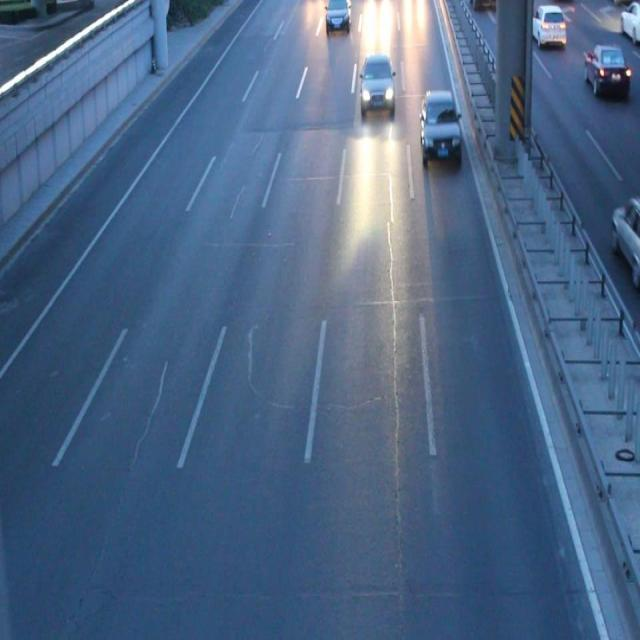car: (610, 195, 640, 276), (423, 91, 459, 158), (584, 45, 628, 96), (360, 58, 393, 109), (525, 1, 564, 44), (325, 1, 349, 25), (468, 1, 497, 11)
